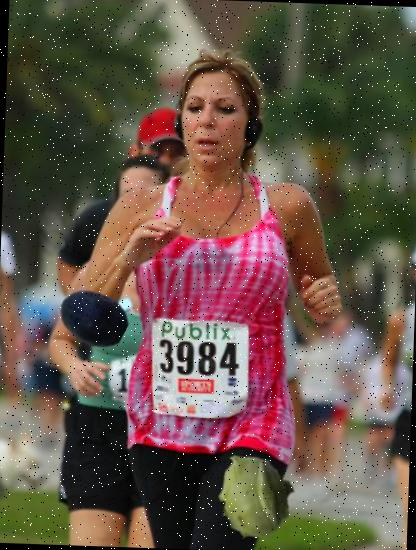Blueberry: (58, 283, 130, 355)
Kohlrabi: (210, 448, 302, 540)
